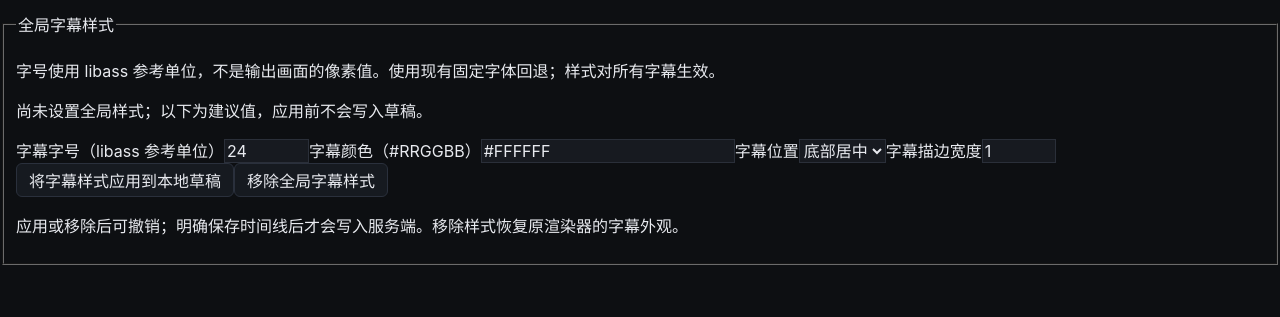
rejects invalid staged 字幕字号（libass 参考单位）=
Clear the number field labelled "字幕字号（libass 参考单位）" at (267,151), box [224,139,309,163]
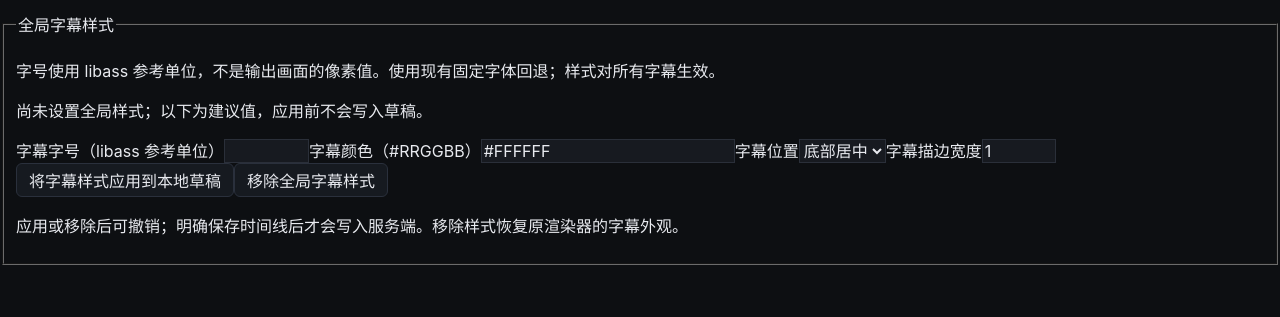
Click the button "将字幕样式应用到本地草稿" at (125,180), box [16,163,234,197]
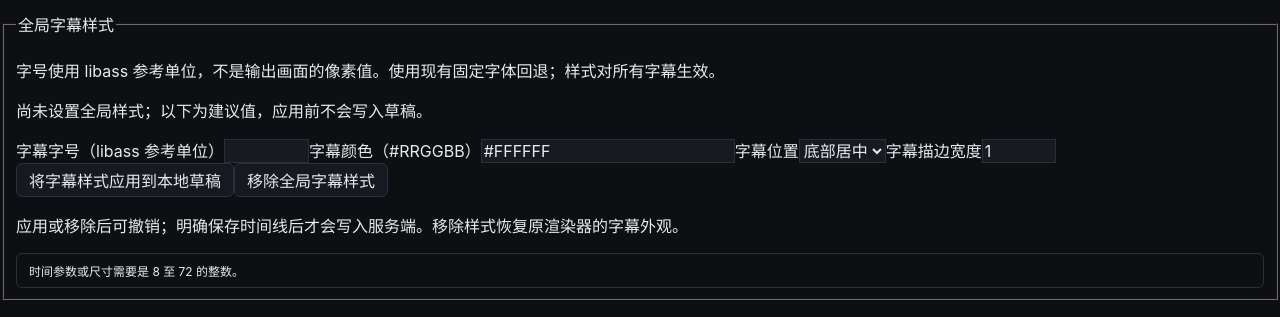
Now the message "时间参数或尺寸需要是 8 至 72 的整数。" is shown, box [16,253,1264,288]
